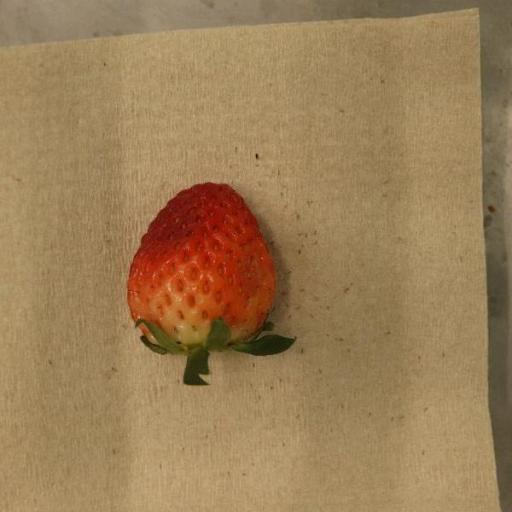Strawberry: (127, 183, 297, 387)
